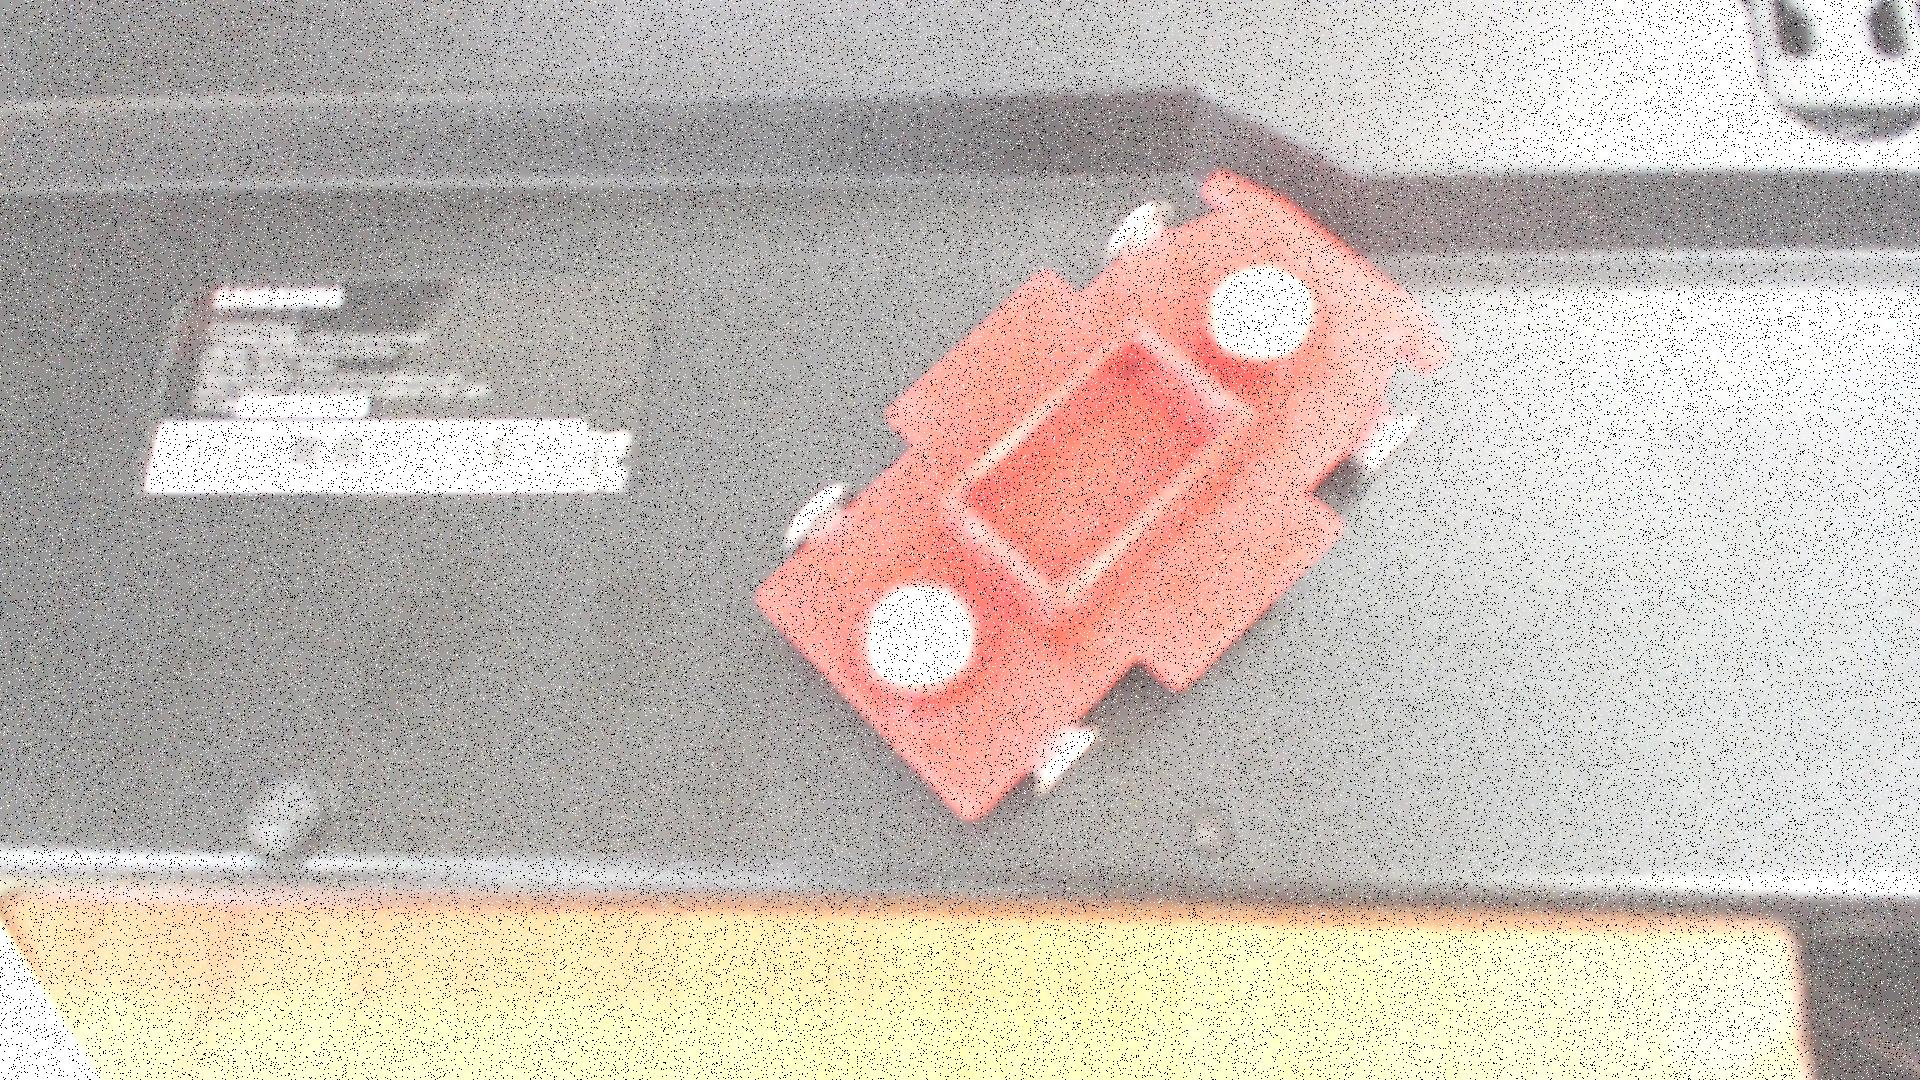lower_ok: (913, 305, 1290, 662)
